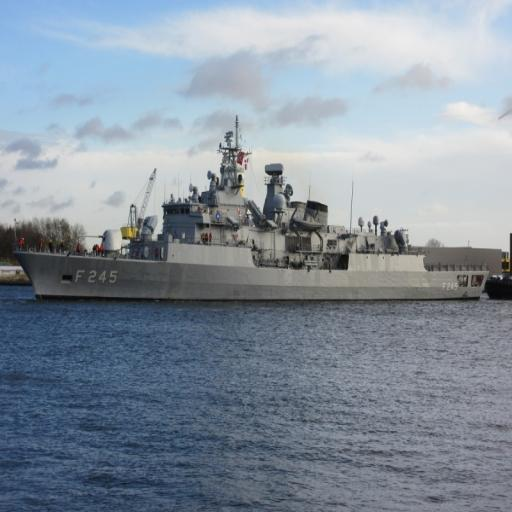Fragata: (11, 110, 494, 312)
